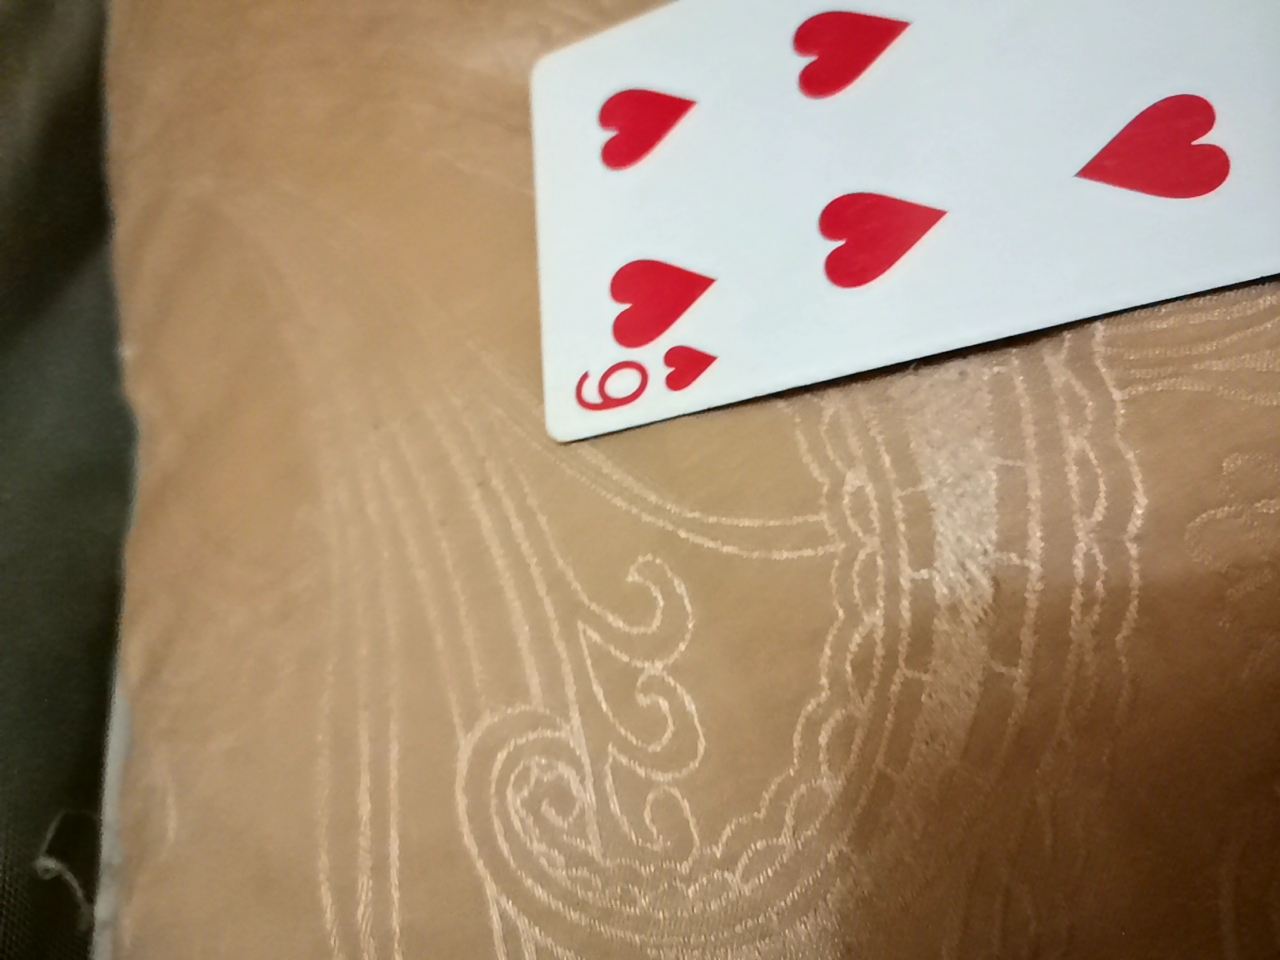hx 6: (527, 4, 1278, 406)
